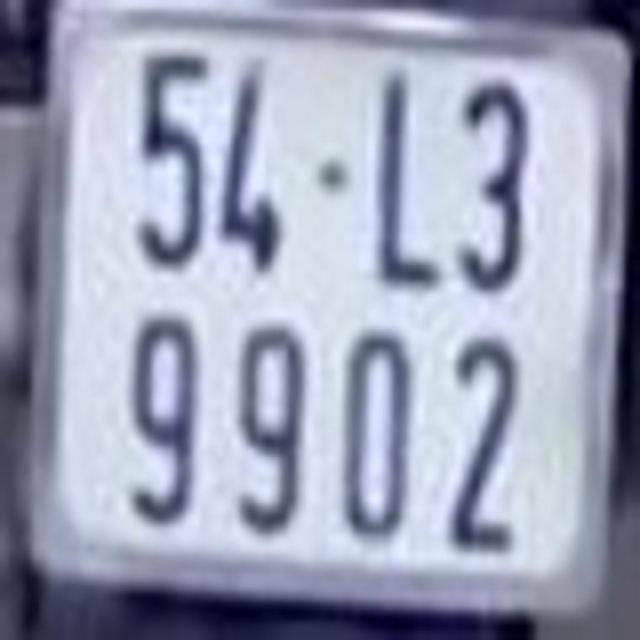0: (344, 324, 410, 546)
2: (452, 333, 520, 550)
3: (462, 73, 526, 290)
4: (226, 54, 288, 278)
5: (137, 54, 210, 268)
9: (130, 304, 207, 535), (236, 319, 312, 540)
L: (372, 64, 450, 296)
